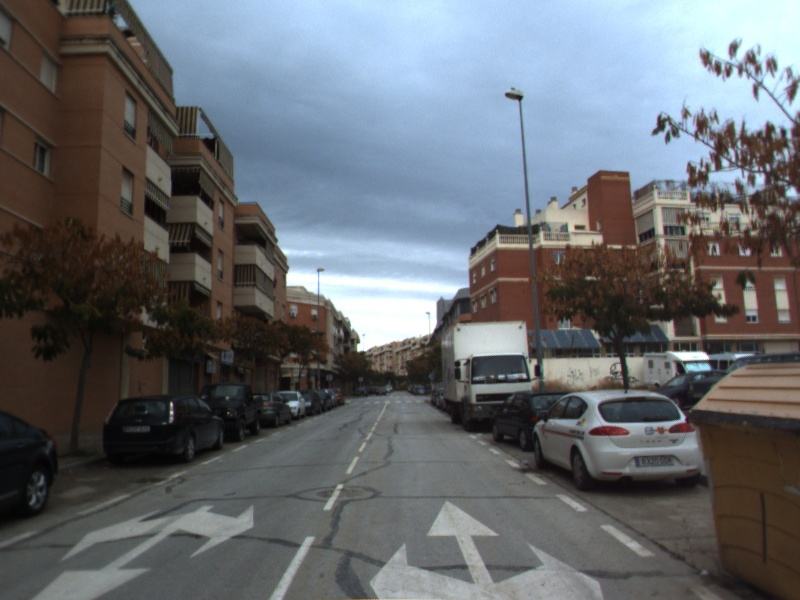STRAIGHT_LEFT_RIGHT: (366, 496, 608, 600)
